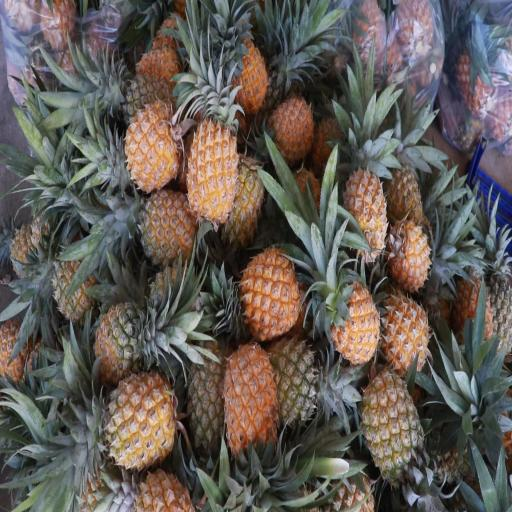------------------------------: (357, 361, 426, 495), (176, 318, 236, 446), (88, 295, 151, 385), (45, 245, 105, 322)
Pineapple - v8 v1: (92, 368, 179, 472), (221, 322, 278, 463), (185, 101, 242, 228), (122, 182, 195, 276), (120, 99, 183, 203), (234, 237, 300, 334), (342, 155, 392, 278), (324, 248, 379, 354), (445, 269, 501, 355), (378, 278, 430, 370), (263, 94, 316, 176), (384, 212, 433, 296), (225, 30, 269, 114)
